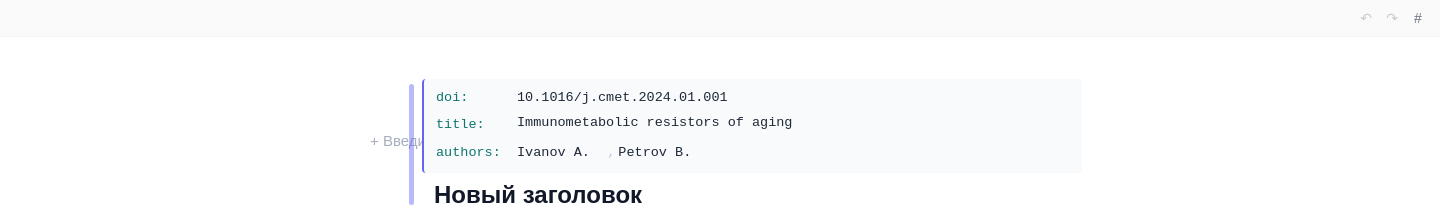
YAML-рендер строки «Метаданные» (T1) › правка h1 обновляет поле title в pre
Clear the heading "Новый заголовок" at (538, 194), box [434,181,642,208]
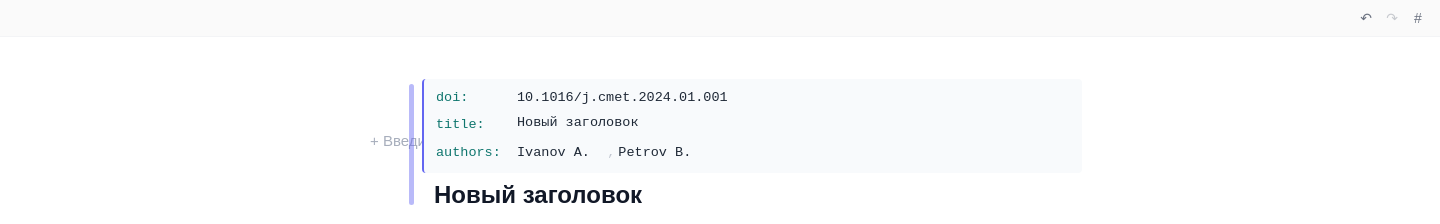
Result: the text box named "Название статьи" holds "Новый заголовок" at [517,111,1070,139]
